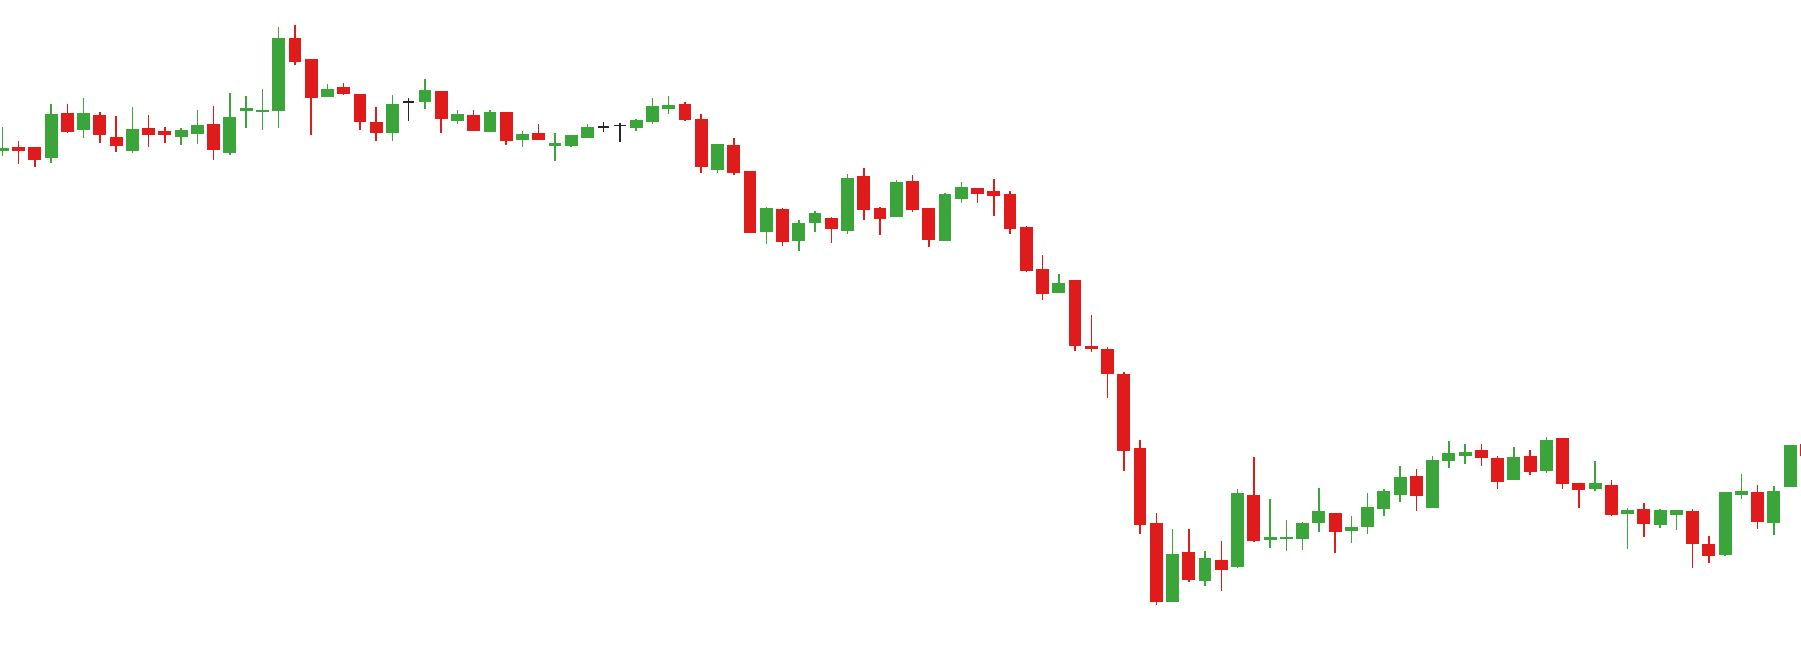buy: (1622, 519, 1736, 573)
